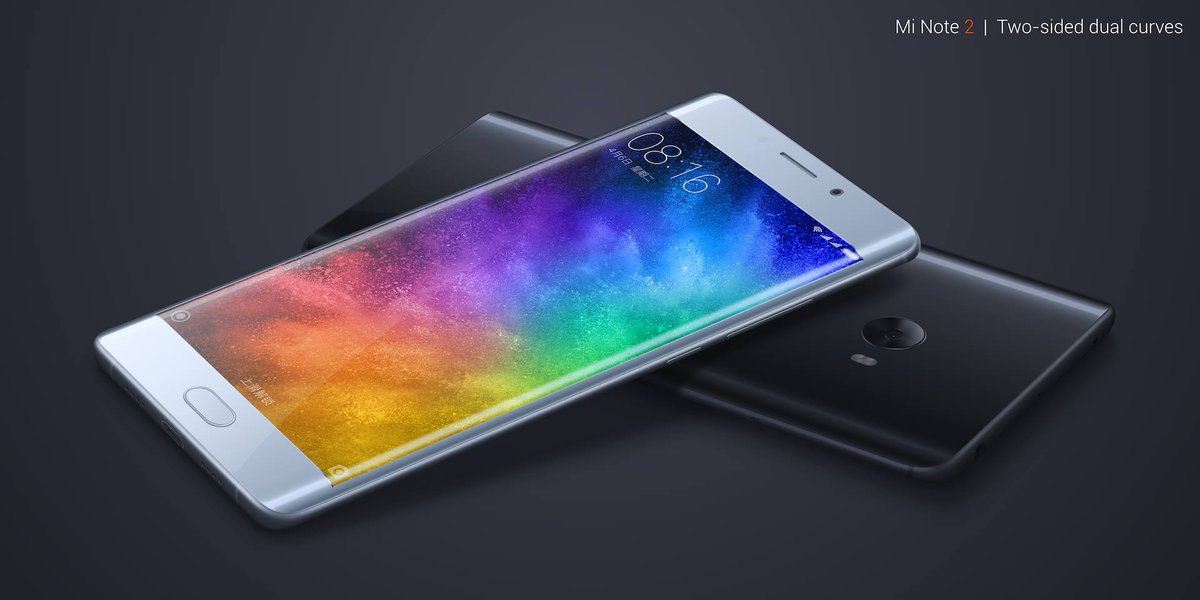smartphone: (94, 92, 920, 532), (300, 110, 1118, 485)
